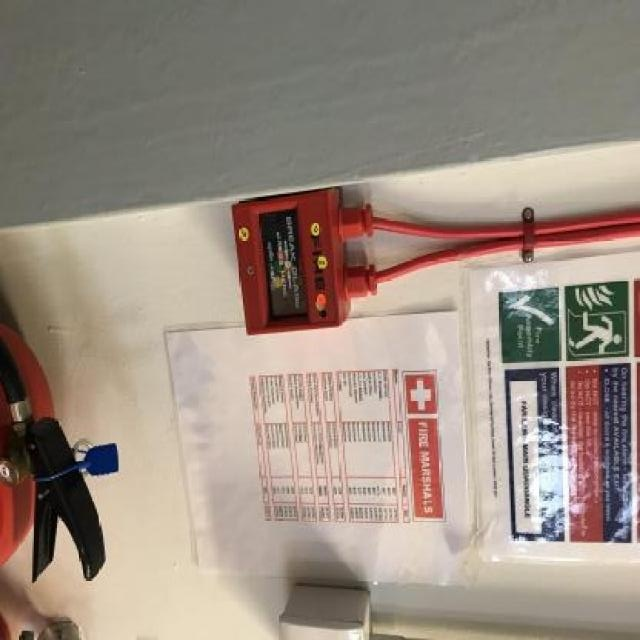fire extinguisher: (0, 328, 109, 583)
